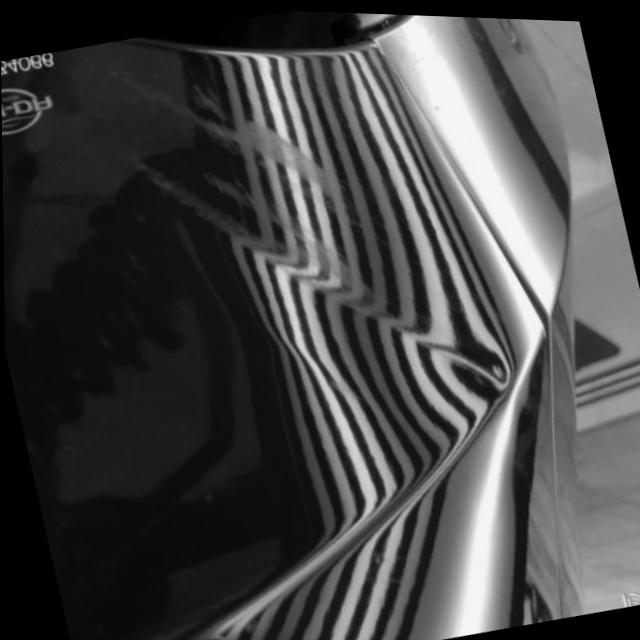PDR-Dent: (382, 290, 525, 445)
